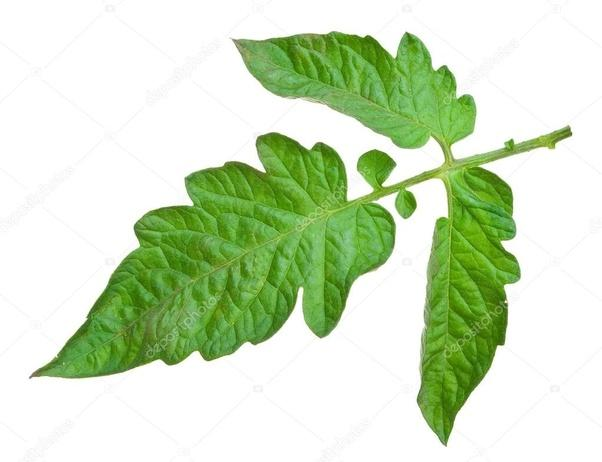Tomato leaf bacterial spot: (29, 129, 404, 402), (405, 156, 519, 461), (231, 32, 483, 158)
